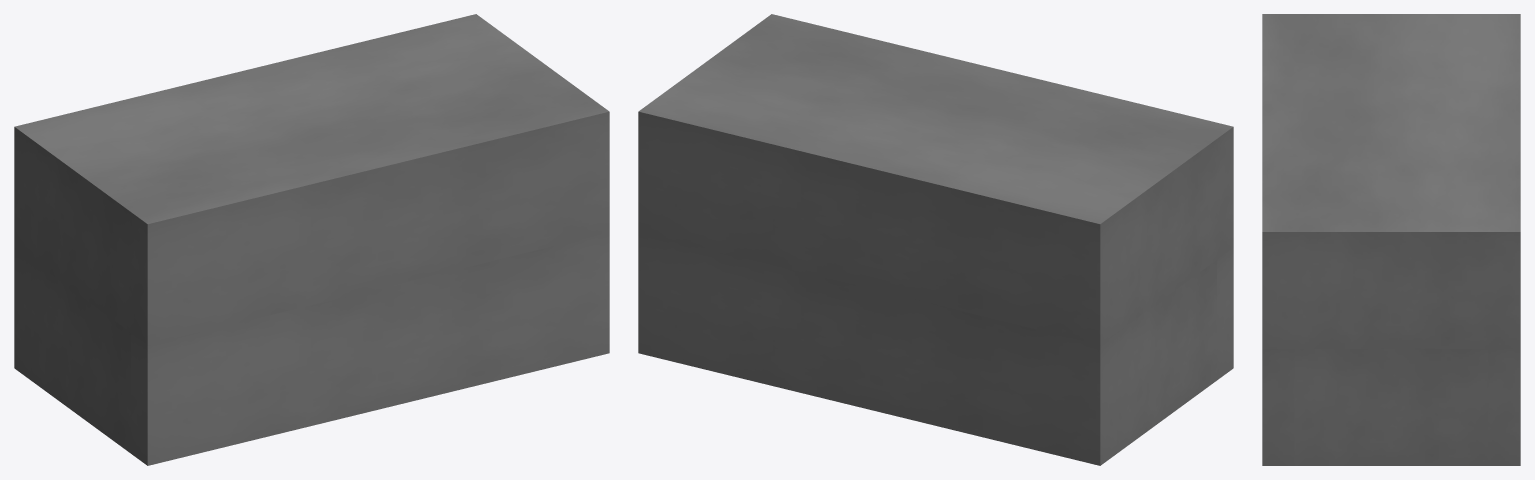
Rendered from dc_metro_arch_a13.obj.
The picture shows the model from 3 angles, left to right: view 1: azimuth 30°, elevation 25°; view 2: azimuth 150°, elevation 25°; view 3: azimuth 270°, elevation 25°; orthographic projection. The views are drawn at different scales.
Visible parts, largest first — view 1: part13; view 2: part13; view 3: part13.
Boxes of the visible parts, <box> form: part13: <box>14,14,609,465</box>; part13: <box>638,14,1233,465</box>; part13: <box>1262,14,1520,465</box>.
Bounding box in the file's own units: 2 × 1 × 1.
Materials: 1 (1 with a texture image).
